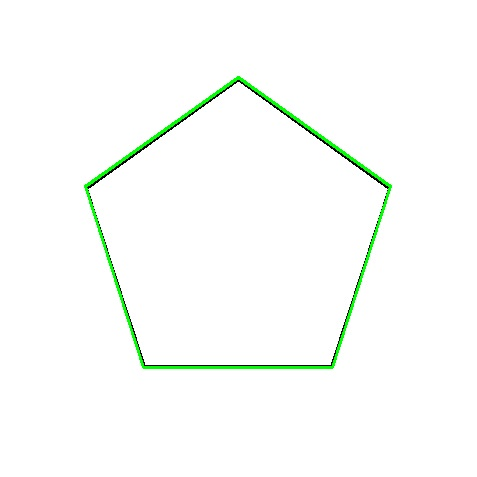line_segment: (84, 77, 392, 369)
